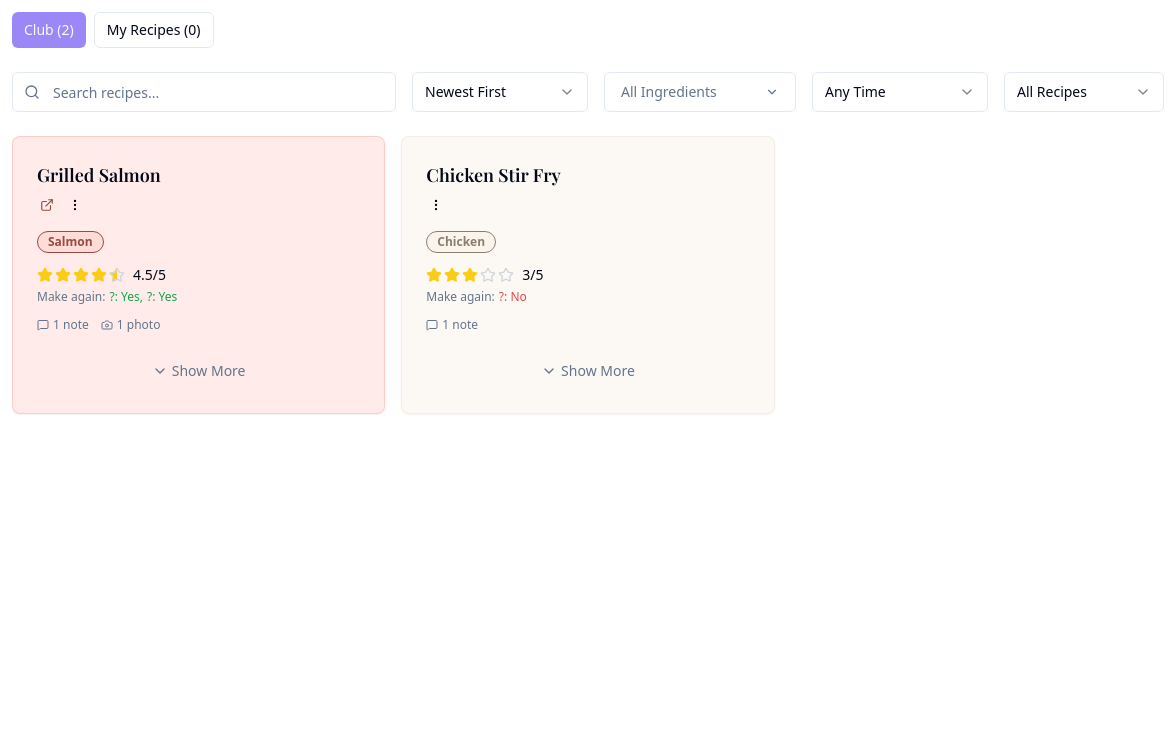
Test: RecipeHub › filters recipes based on search term
Expected: the heading "Grilled Salmon" is shown, left=37, top=163, right=161, bottom=187
Type "chicken" into the field with placeholder "Search recipes...".
click(204, 92); type("chicken")  # box left=12, top=72, right=396, bottom=112
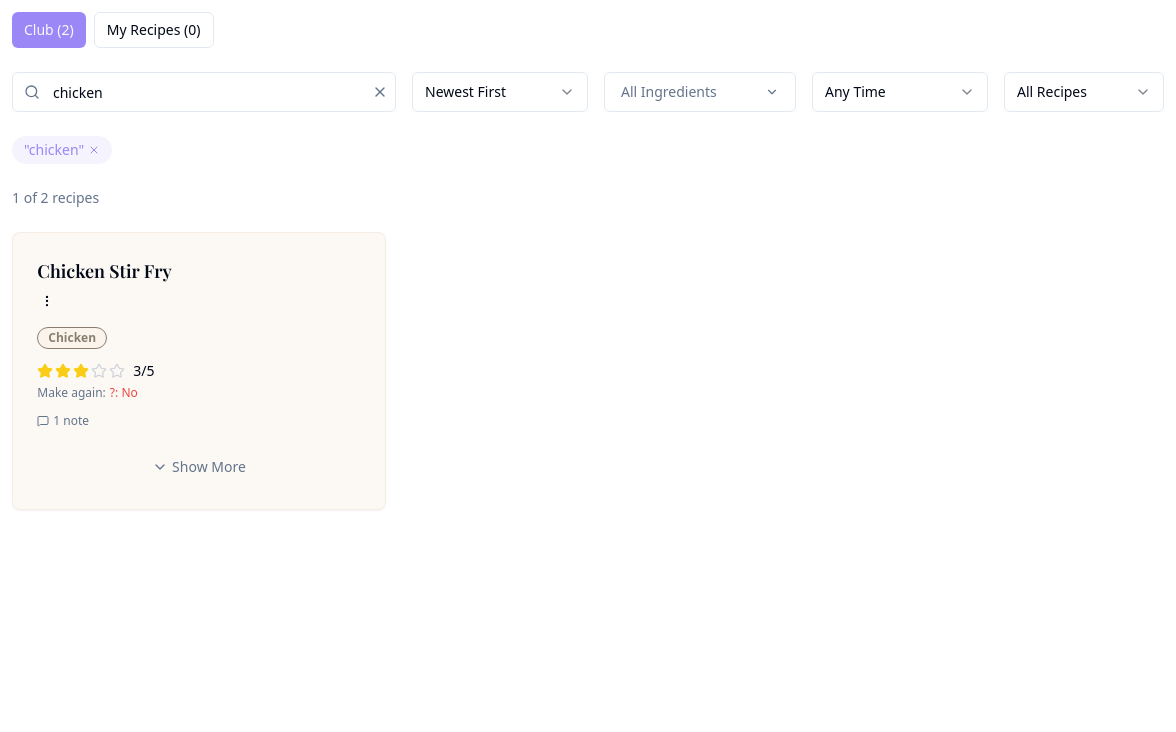
Expected: the heading "Chicken Stir Fry" is shown, left=37, top=259, right=171, bottom=283
Now the heading "Grilled Salmon" is gone
